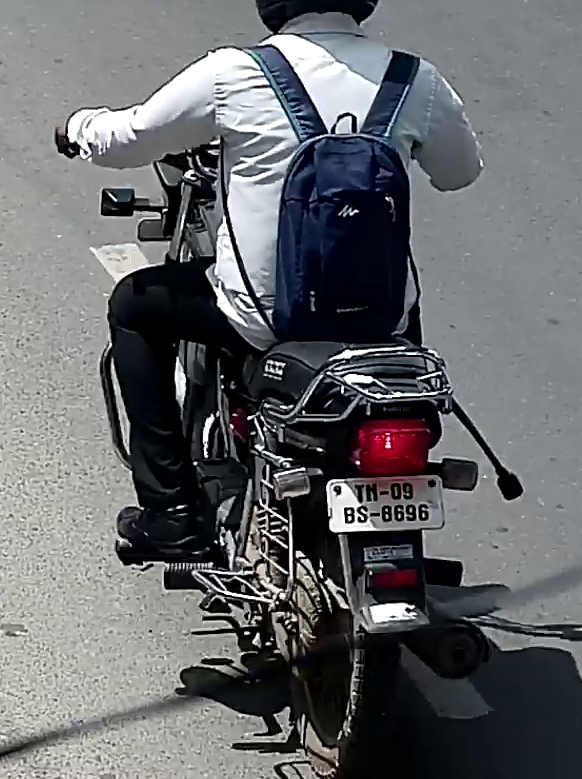-: (379, 490, 389, 495), (369, 512, 379, 517)
0: (390, 482, 401, 500)
6: (393, 504, 404, 522), (417, 504, 428, 521)
8: (381, 504, 391, 523)
9: (402, 482, 413, 501), (405, 504, 416, 522)
B: (343, 507, 354, 524)
N: (365, 483, 377, 502)
P16: (325, 474, 444, 532)
S: (355, 506, 367, 525)
T: (354, 483, 363, 503)
